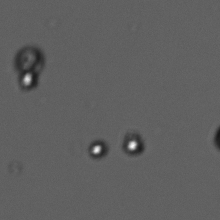Dead Cell: (12, 44, 52, 78)
Living Cell: (121, 131, 147, 156), (86, 140, 110, 160), (19, 70, 38, 90)
